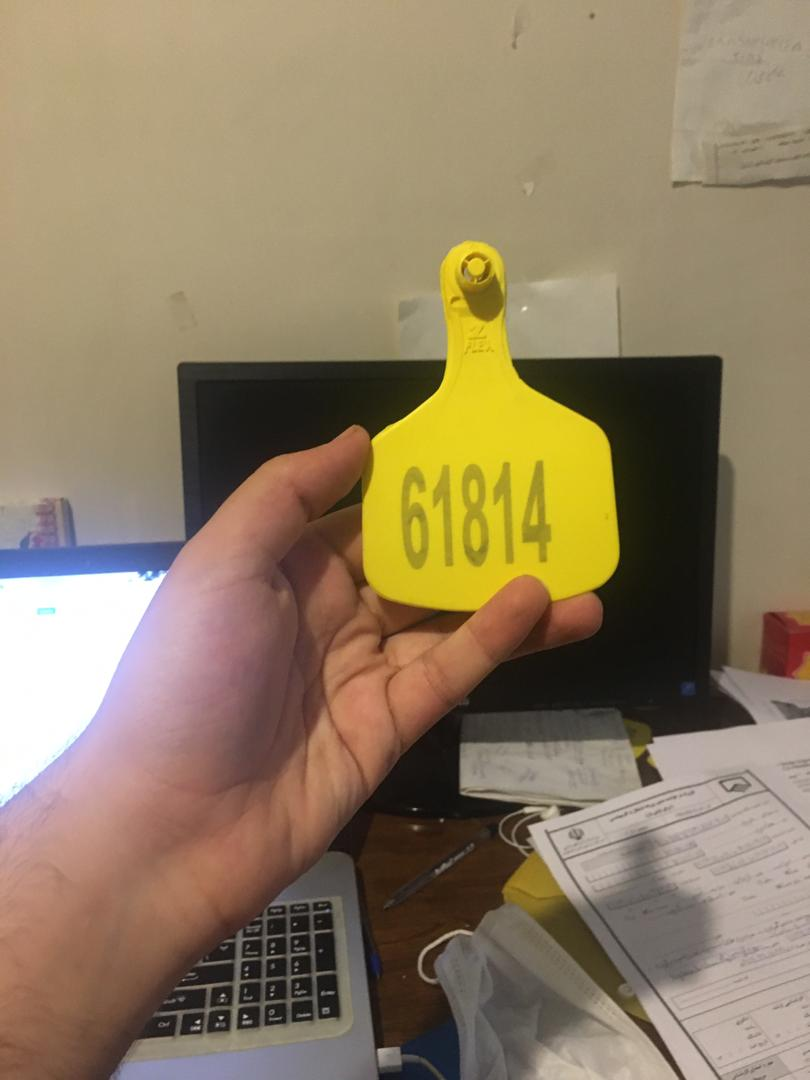digit: (398, 462, 556, 571)
